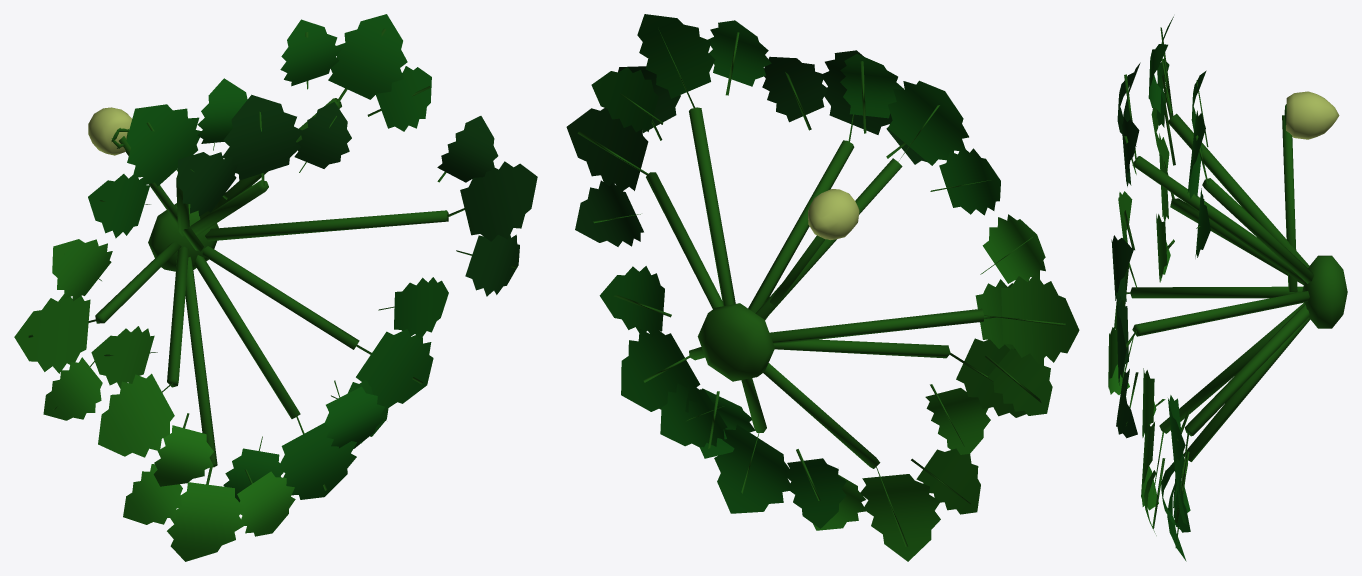
File: plant_variant_12.obj
3 renders of one model, left to right at view 1: azimuth 30°, elevation 25°; view 2: azimuth 150°, elevation 25°; view 3: azimuth 270°, elevation 25°, orthographic. The views are drawn at different scales.
Parts seen in each view (by area): view 1: field_export_plant_variant_12; view 2: field_export_plant_variant_12; view 3: field_export_plant_variant_12.
Boxes of the visible parts, x1,y1,x2,y2 form: field_export_plant_variant_12: (14, 14, 537, 561); field_export_plant_variant_12: (566, 14, 1079, 561); field_export_plant_variant_12: (1108, 16, 1347, 561).
Bounding box in the file's own units: 0.6546 × 0.6118 × 0.264.
